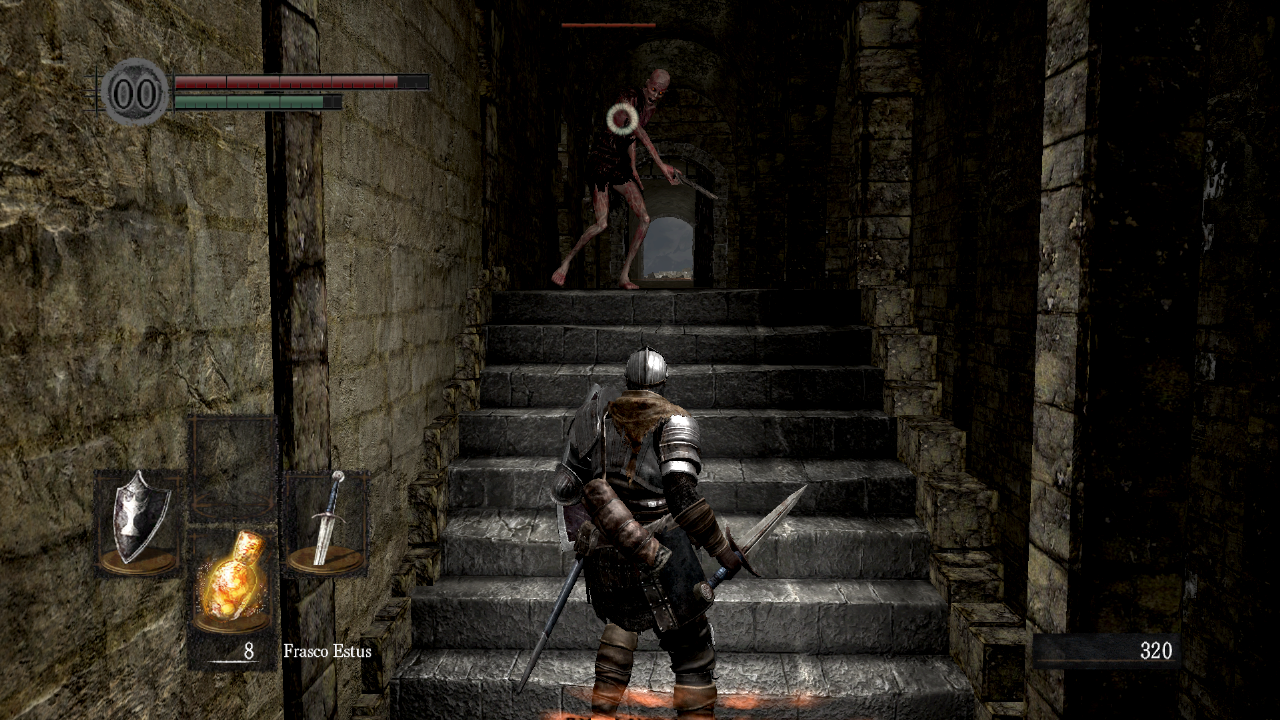hollow: (551, 68, 719, 290)
player: (516, 344, 808, 720)
